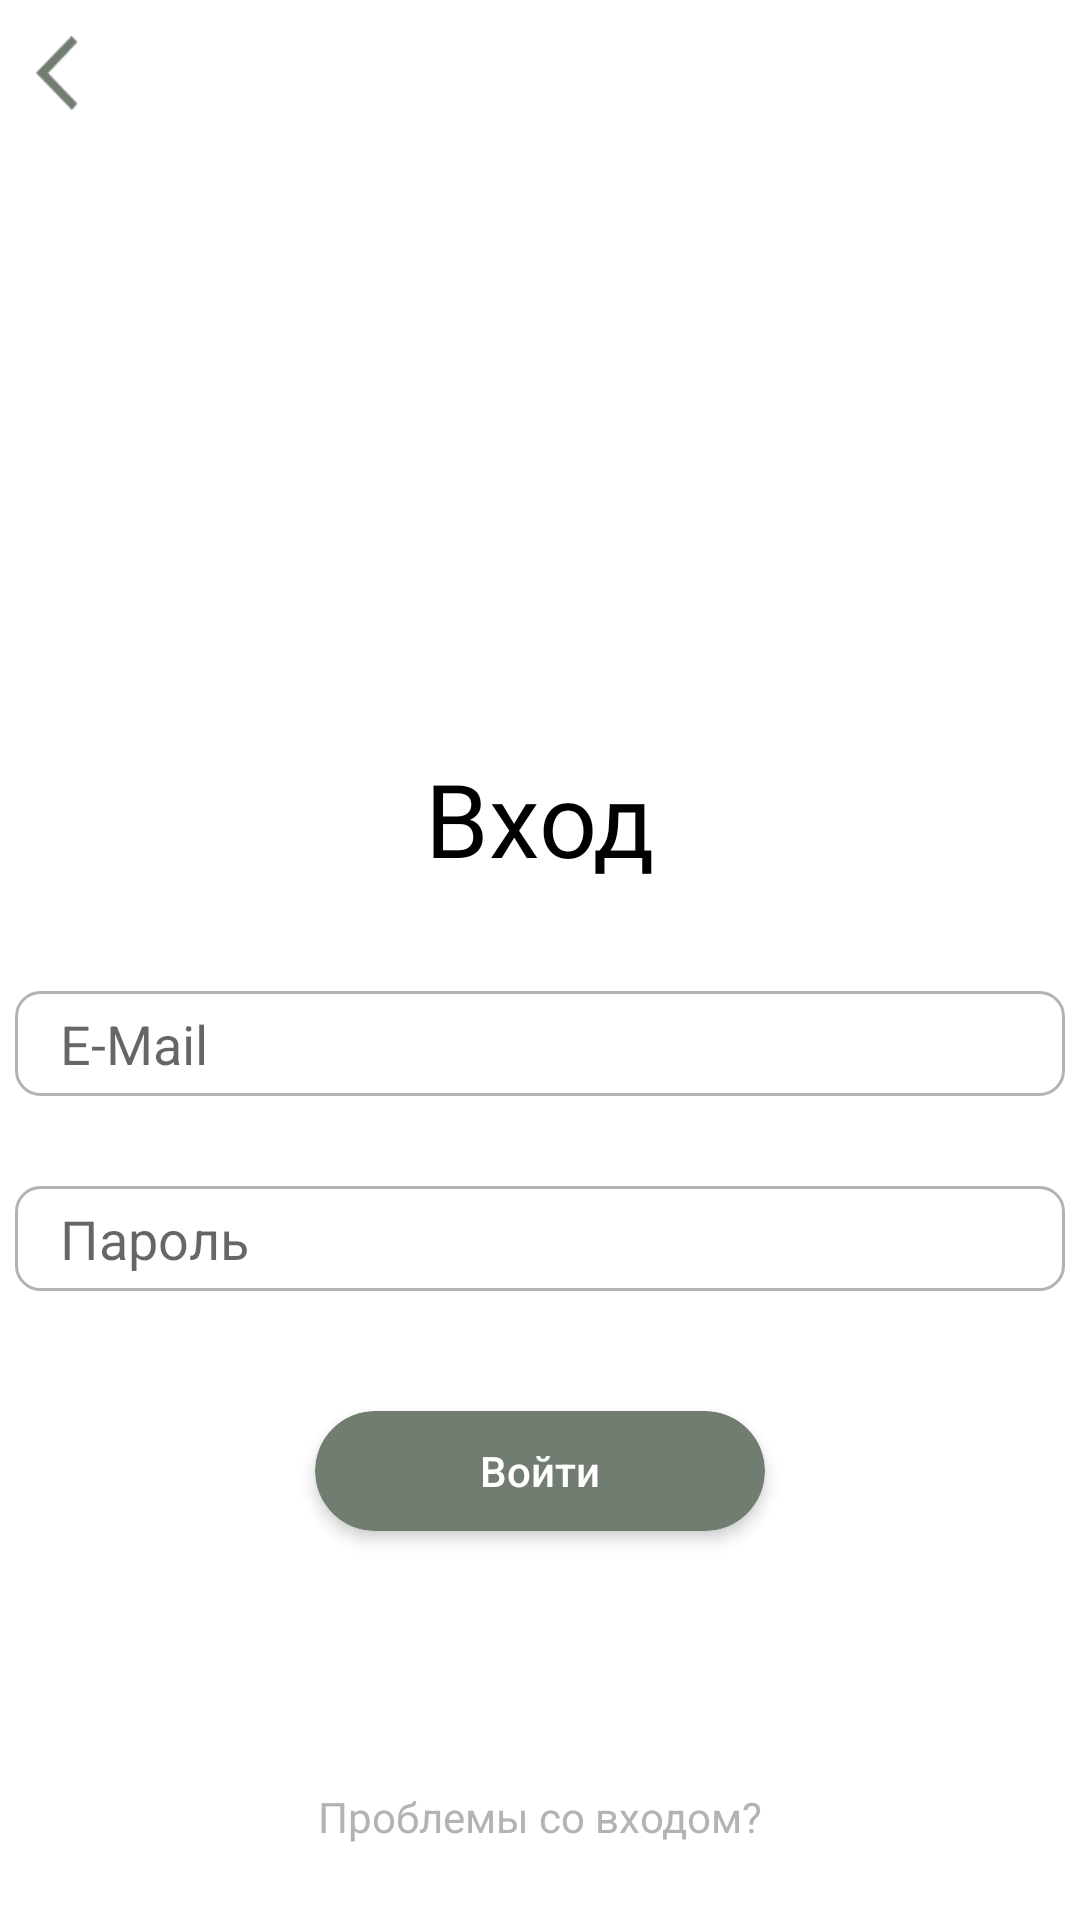

Icons on this 1080 × 1920 Android screen, each with the point to tap as (x,y):
exit: (57,73)
